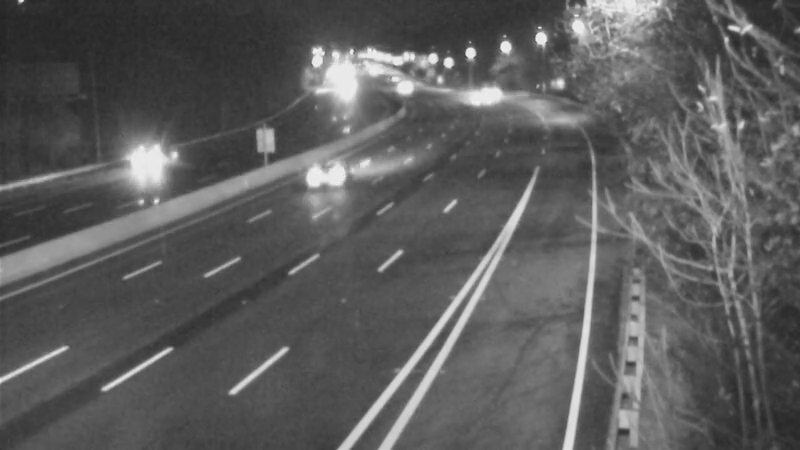vehicle: (290, 137, 370, 217), (113, 120, 193, 200), (376, 60, 426, 110), (439, 71, 489, 121), (464, 68, 514, 118)
